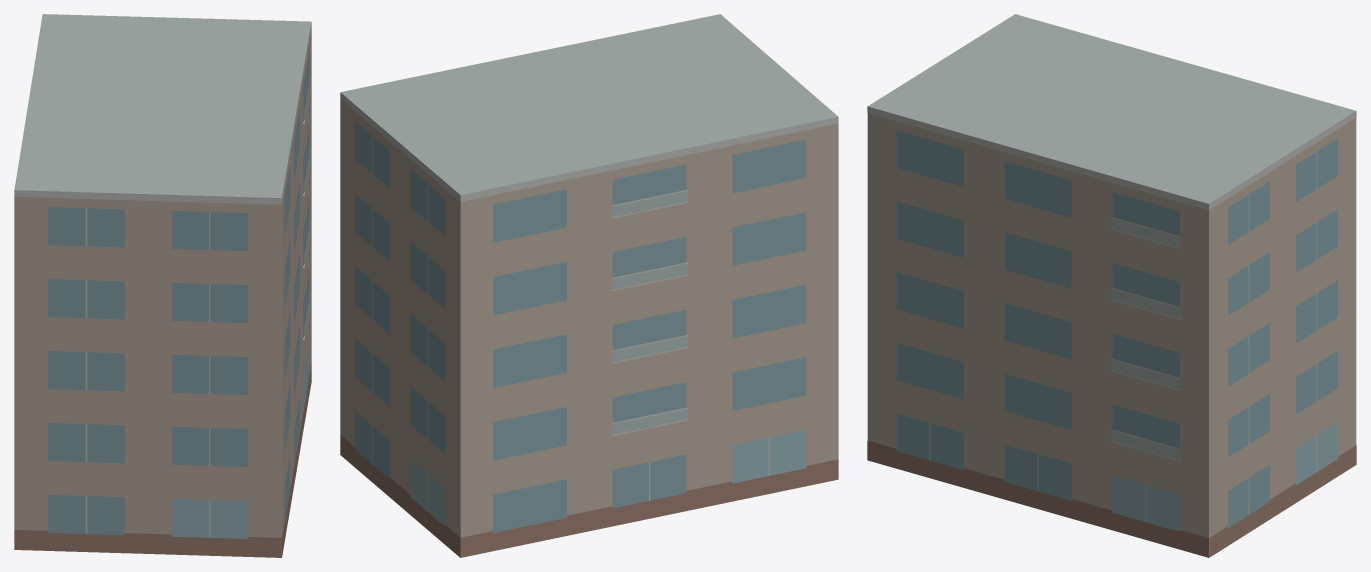
File: survey-upis-32889270.glb
3 views of the same model, side by side, from view 1: azimuth 30°, elevation 25°; view 2: azimuth 150°, elevation 25°; view 3: azimuth 270°, elevation 25° (orthographic). The views are drawn at different scales.
Visible parts, largest first — view 1: survey-upis-32889270.tmp; view 2: survey-upis-32889270.tmp; view 3: survey-upis-32889270.tmp.
Part boxes in pixels (x1,y1,x2,y2): survey-upis-32889270.tmp: (14,14,311,557); survey-upis-32889270.tmp: (340,14,838,557); survey-upis-32889270.tmp: (867,14,1356,557).
Size of the model in its own units: 15.09 by 13.1 by 16.41.
